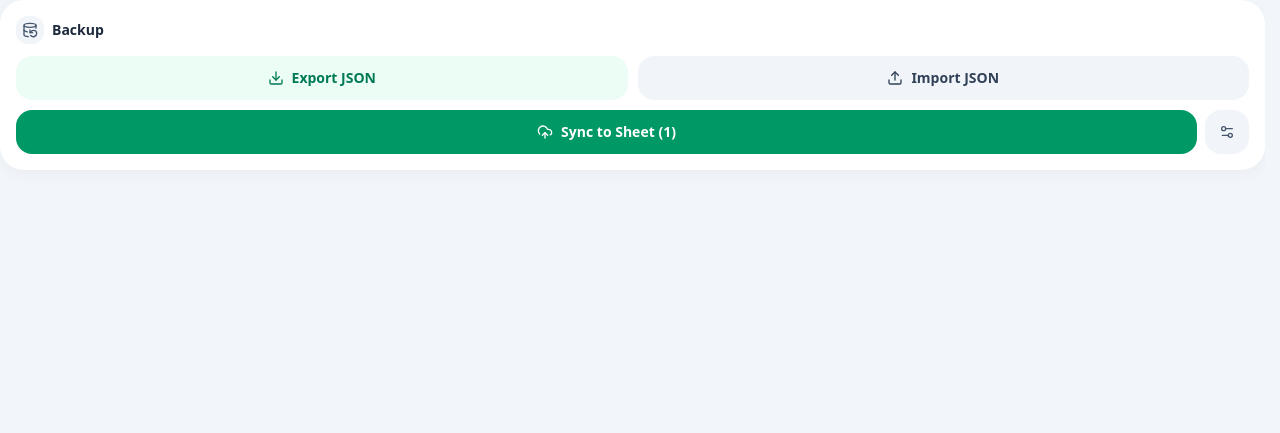
Scenario: BackupControls Google Sheet Sync › opens settings when Worker URL is missing
The image size is (1280, 433).
Step 1. Click the button "Sync to Sheet (1)" → (606, 132), box [16,110,1197,154]
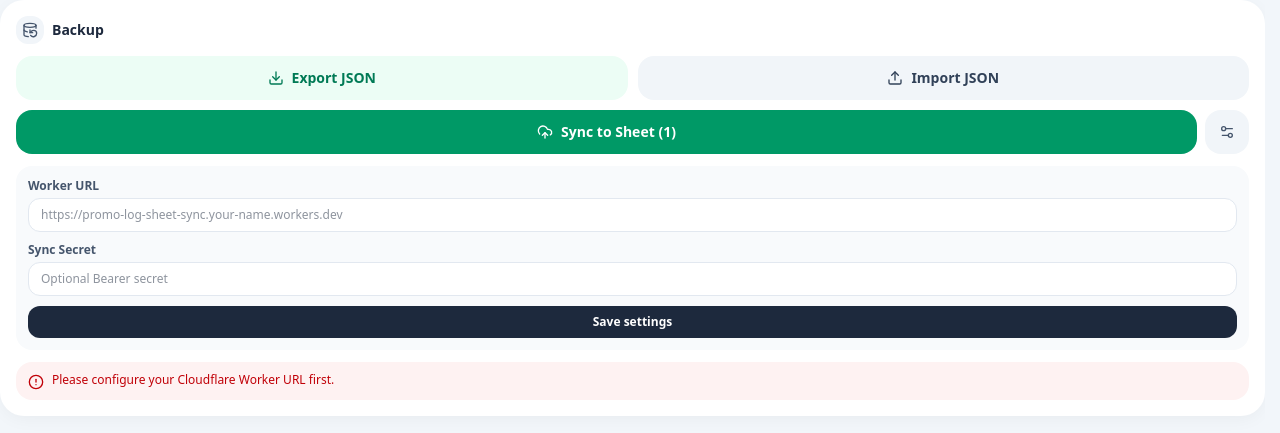
Expected: the field labelled "Worker URL" is shown, [28,198,1237,232]
Expected: the message shows "configure your Cloudflare Worker URL", [52,371,334,388]
